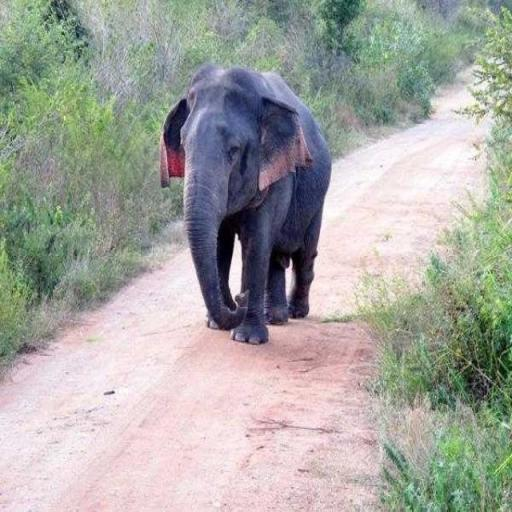Elephant: (158, 62, 332, 344)
